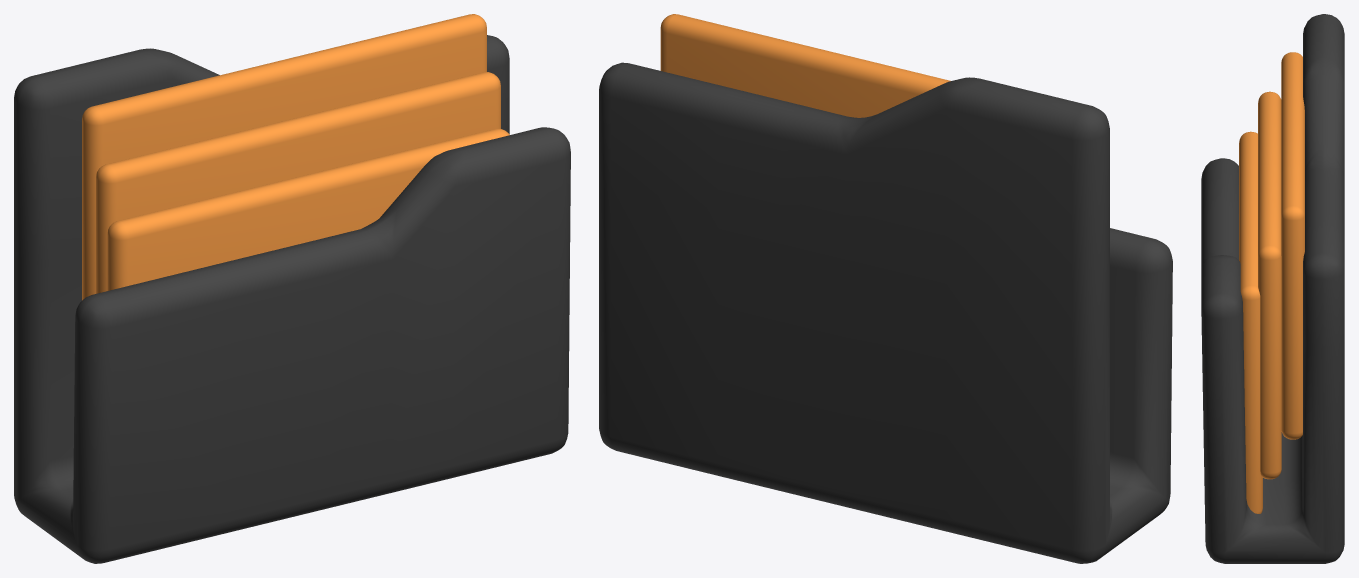
3 renders of one model, left to right at view 1: azimuth 30°, elevation 25°; view 2: azimuth 150°, elevation 25°; view 3: azimuth 270°, elevation 25°, orthographic. The views are drawn at different scales.
Parts seen in each view (by area): view 1: Cube, Plane.001, Plane.002, Plane.003; view 2: Cube, Plane.001; view 3: Cube, Plane.002, Plane.001, Plane.003.
Boxes of the visible parts, left/top/right/bottom form: Cube: left=14, top=35, right=570, bottom=563; Plane.001: left=82, top=14, right=486, bottom=300; Plane.002: left=96, top=72, right=500, bottom=293; Plane.003: left=107, top=128, right=509, bottom=290; Cube: left=599, top=62, right=1172, bottom=563; Plane.001: left=660, top=14, right=950, bottom=117; Cube: left=1201, top=14, right=1344, bottom=563; Plane.002: left=1258, top=91, right=1281, bottom=479; Plane.001: left=1281, top=52, right=1304, bottom=439; Plane.003: left=1239, top=131, right=1262, bottom=513.
Bounding box in the file's own units: 3.07 × 2.65 × 0.9393.
